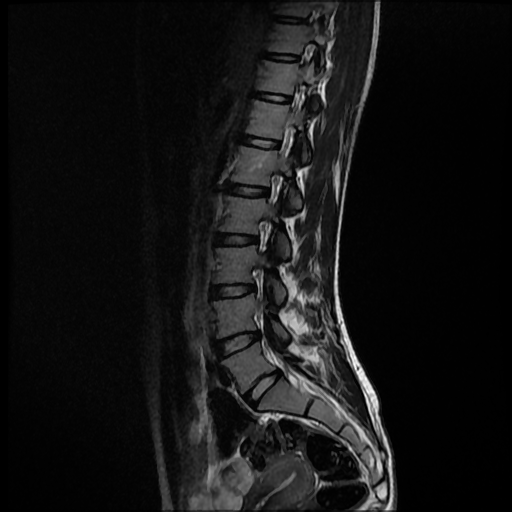RFS0: (245, 208, 276, 261), (254, 164, 291, 208)
